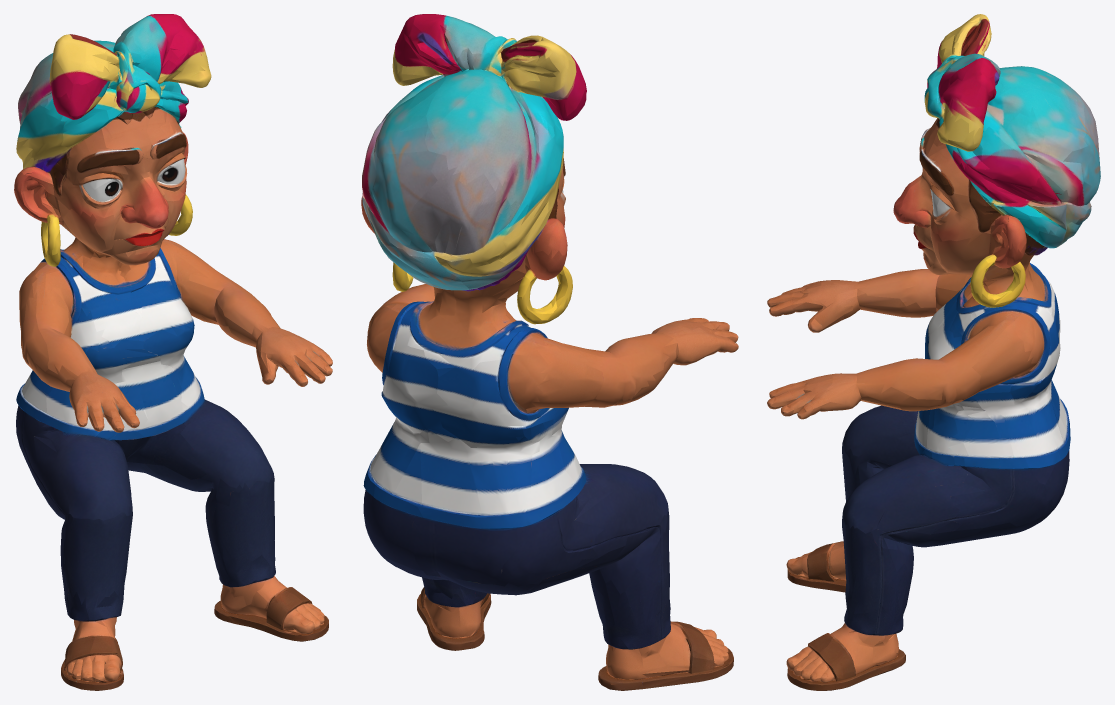
3 views of the same model, side by side, from view 1: azimuth 30°, elevation 25°; view 2: azimuth 150°, elevation 25°; view 3: azimuth 270°, elevation 25° (orthographic). The views are drawn at different scales.
Visible parts, largest first — view 1: output_unwrapped; view 2: output_unwrapped; view 3: output_unwrapped.
Part boxes in pixels (x1,y1,x2,y2): output_unwrapped: [14, 14, 332, 690]; output_unwrapped: [361, 14, 738, 690]; output_unwrapped: [767, 14, 1100, 690].
Size of the model in its own units: 0.8963 by 1.9 by 0.9804.
Materials: 1 (1 with a texture image).
